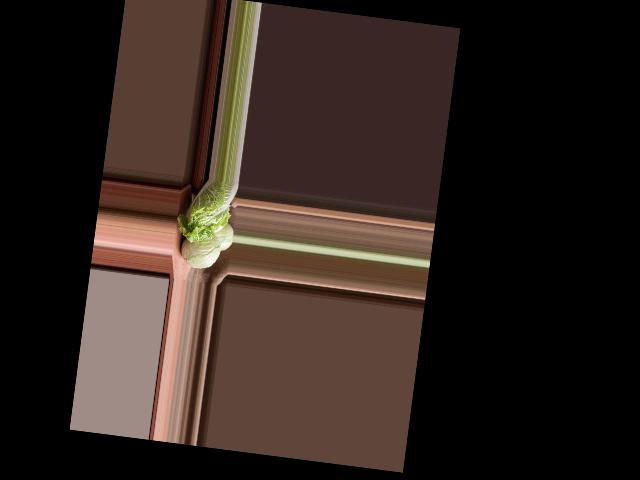lettuce: (173, 176, 236, 247)
